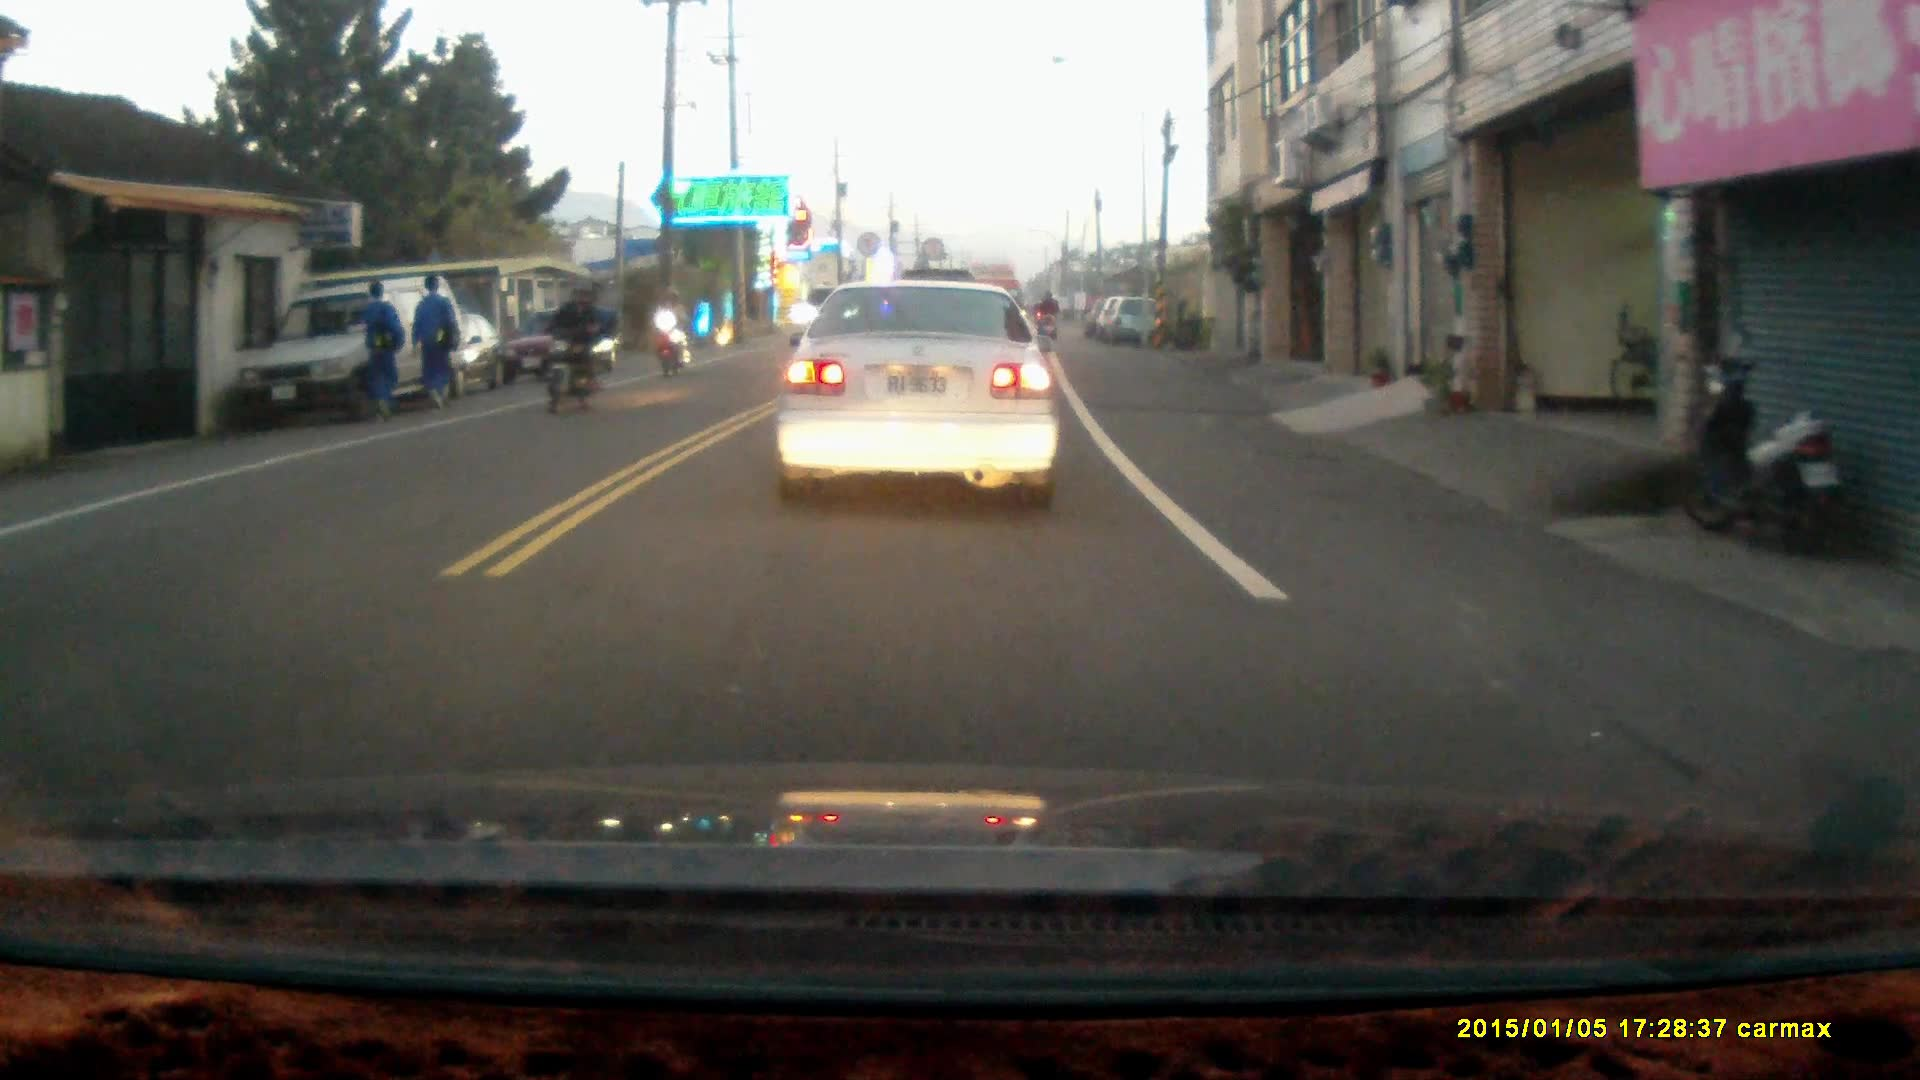pedestrian: (355, 279, 405, 426), (410, 272, 459, 417)
rider: (536, 283, 619, 419), (652, 286, 689, 379)
vehicle: (772, 276, 1063, 512), (236, 275, 475, 420), (498, 305, 618, 383), (1100, 298, 1163, 352)
